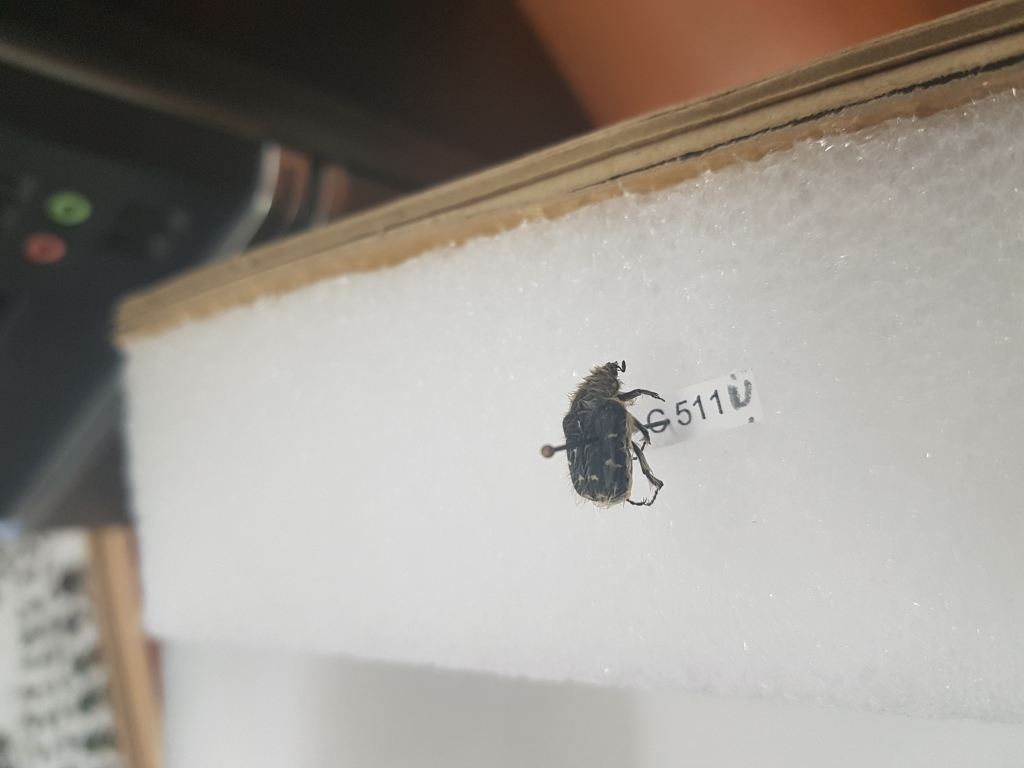Tropinota_senicula: (561, 345, 671, 510)
